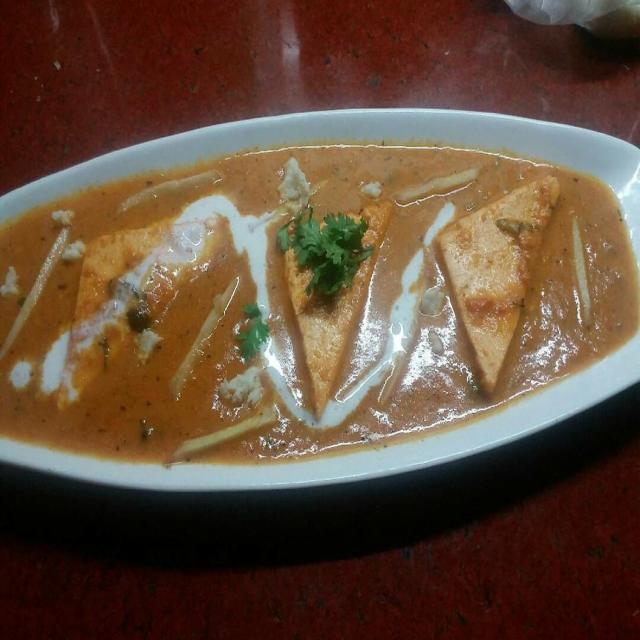ShahiPaneer: (0, 142, 640, 453)
